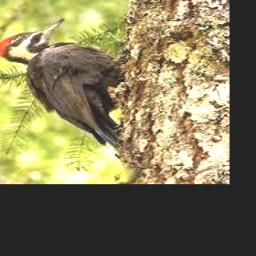Woodpecker: (0, 18, 126, 148)
